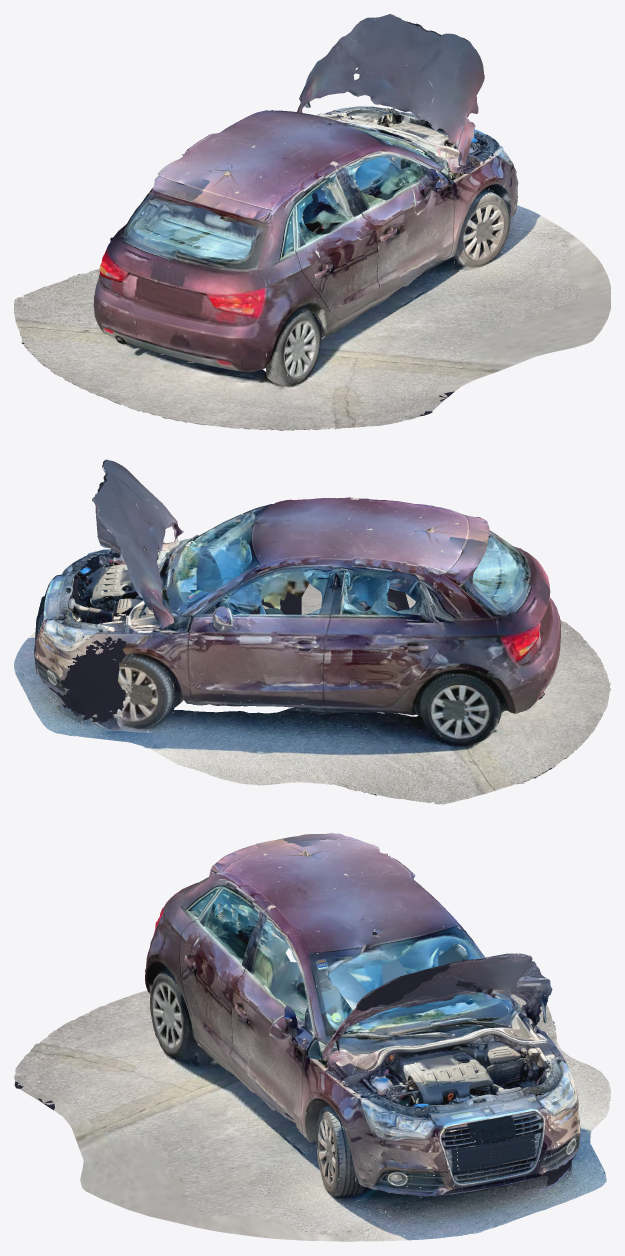
The model's file is a1-scan-m.glb.
3 views of the same model, one above another, from view 1: azimuth 30°, elevation 25°; view 2: azimuth 150°, elevation 25°; view 3: azimuth 270°, elevation 25° (orthographic). The views are drawn at different scales.
Visible parts, largest first — view 1: scan_2, scan_1, scan_0, scan_3; view 2: scan_1, scan_2, scan_0, scan_3; view 3: scan_1, scan_2, scan_0, scan_3.
Boxes of the visible parts, <box> form: scan_2: <box>20,42,610,430</box>; scan_1: <box>14,14,583,430</box>; scan_0: <box>17,15,543,382</box>; scan_3: <box>26,14,610,430</box>; scan_1: <box>14,460,610,804</box>; scan_2: <box>15,460,603,800</box>; scan_0: <box>35,459,529,803</box>; scan_3: <box>34,493,610,796</box>; scan_1: <box>14,833,606,1241</box>; scan_2: <box>27,834,595,1241</box>; scan_0: <box>150,847,610,1223</box>; scan_3: <box>18,836,606,1240</box>.
Size of the model in its own units: 4.5 by 1.77 by 3.92.
Materials: 5 (5 with a texture image).
